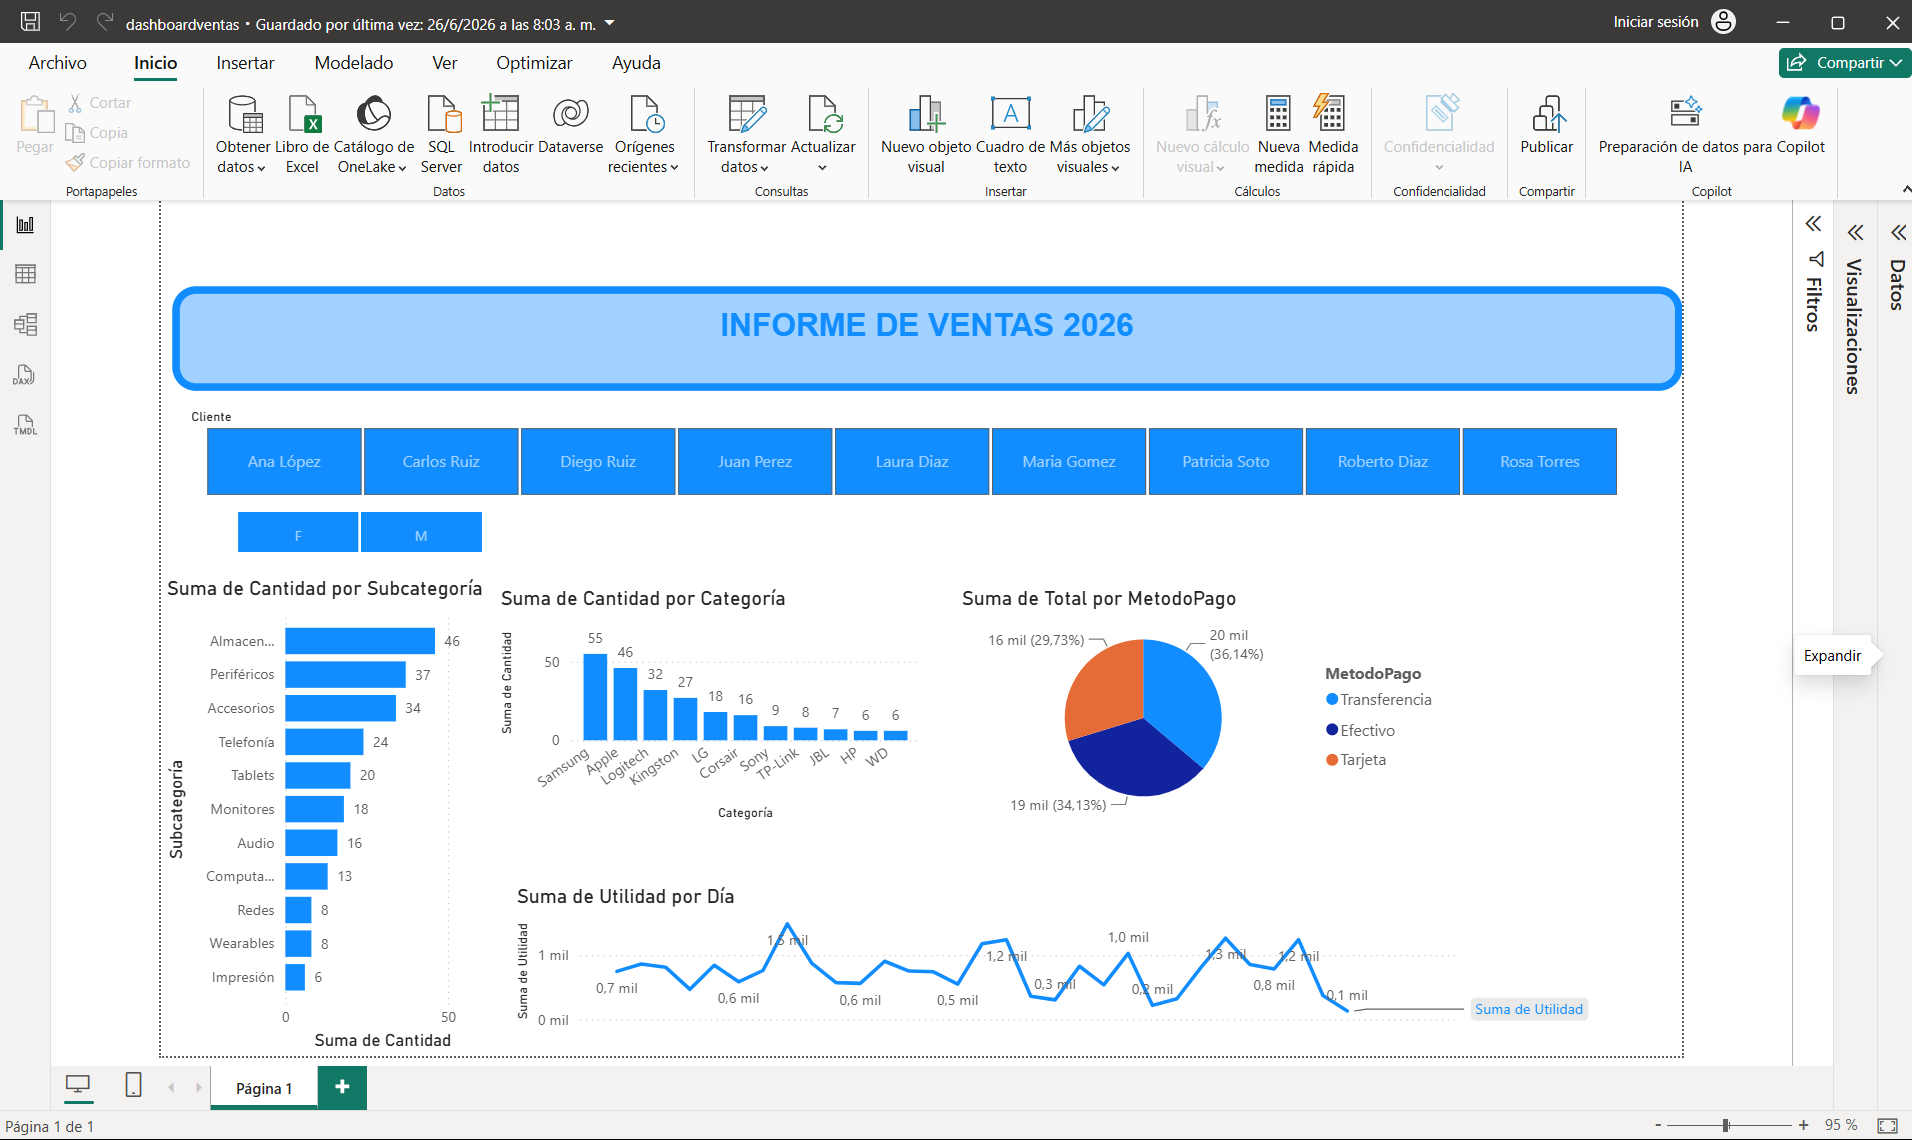

The page's visual inventory and layout, read from the dashboard file:
{"tool":"powerbi","page":{"name":"Página 1","canvas":[1280,720],"ordinal":0},"visuals":[{"type":"textbox","box":[9.6,72.7,1270.7,87.8],"z":0},{"type":"clusteredBarChart","fields":{"Y":["Sum(BDatos.Cantidad)"],"Category":["BDatos.Subcategoría"]},"box":[0,316.4,281,403.1],"z":1},{"type":"clusteredColumnChart","fields":{"Y":["Sum(BDatos.Cantidad)"],"Category":["BDatos.Categoría"]},"box":[281,324.9,362.8,201.6],"z":2},{"type":"slicer","fields":{"Values":["BDatos.Cliente"]},"box":[12.2,169.8,1236.3,84.3],"z":3},{"type":"lineChart","fields":{"Y":["Sum(BDatos.Utilidad)"],"Category":["BDatos.Fecha.Variación.Jerarquía de fechas.Día"]},"box":[294.4,575.4,911.3,128.3],"z":4},{"type":"pieChart","fields":{"Y":["Sum(BDatos.Total)"],"Category":["BDatos.MetodoPago"]},"box":[668.2,324.9,415.3,202.8],"z":5},{"type":"slicer","fields":{"Values":["BDatos.Genero"]},"box":[37.9,254.1,256.5,42.8],"z":6}]}

Visuals, with their boxes on the page's 1280x720 design canvas (x1, y1, x2, y2). These are canvas units, not pixel positions in the 1912x1140 screenshot, which may show the page scaled, cropped or inside an application window:
textbox: [10,73,1280,160]
clusteredBarChart - Sum(BDatos.Cantidad) x BDatos.Subcategoría: [0,316,281,720]
clusteredColumnChart - Sum(BDatos.Cantidad) x BDatos.Categoría: [281,325,644,526]
slicer - BDatos.Cliente: [12,170,1248,254]
lineChart - Sum(BDatos.Utilidad) x BDatos.Fecha.Variación.Jerarquía de fechas.Día: [294,575,1206,704]
pieChart - Sum(BDatos.Total) x BDatos.MetodoPago: [668,325,1084,528]
slicer - BDatos.Genero: [38,254,294,297]
